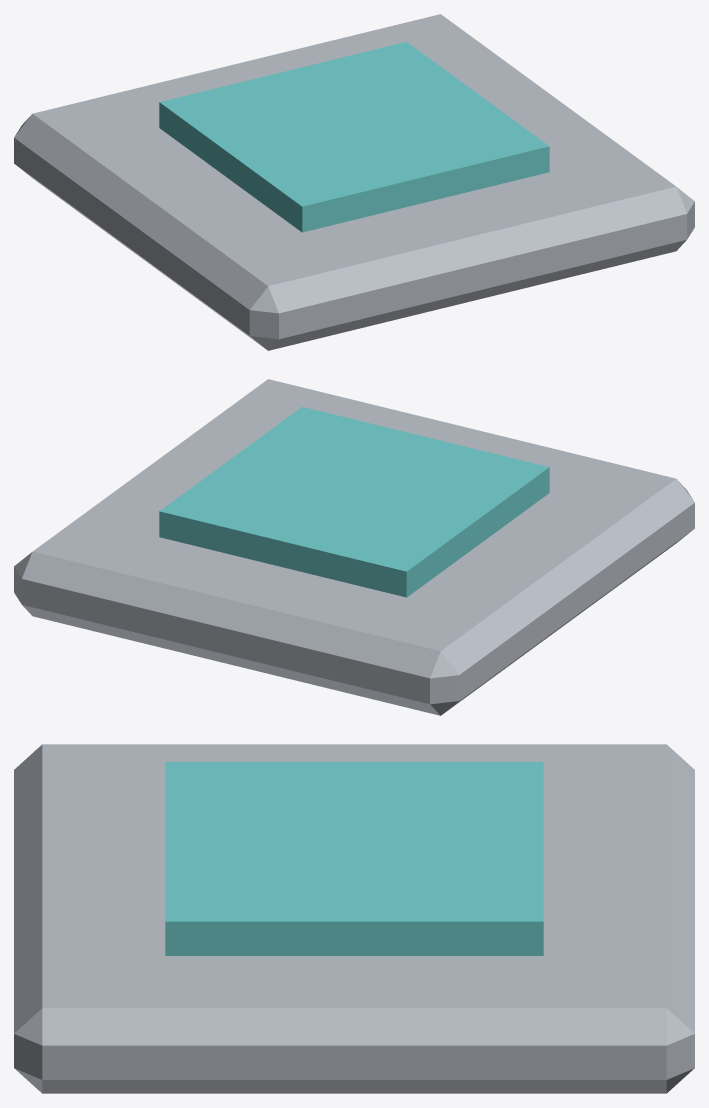
The model's file is ic_item_plate.glb.
3 renders of one model, top to bottom at view 1: azimuth 30°, elevation 25°; view 2: azimuth 150°, elevation 25°; view 3: azimuth 270°, elevation 25°, orthographic. The views are drawn at different scales.
Parts seen in each view (by area): view 1: ic_item_plate; view 2: ic_item_plate; view 3: ic_item_plate.
Boxes of the visible parts, box(x1,y1,x2,y2) form: ic_item_plate: box(14, 14, 694, 350); ic_item_plate: box(14, 379, 694, 715); ic_item_plate: box(14, 744, 694, 1093).
Bounding box in the file's own units: 0.36 × 0.07 × 0.36.
